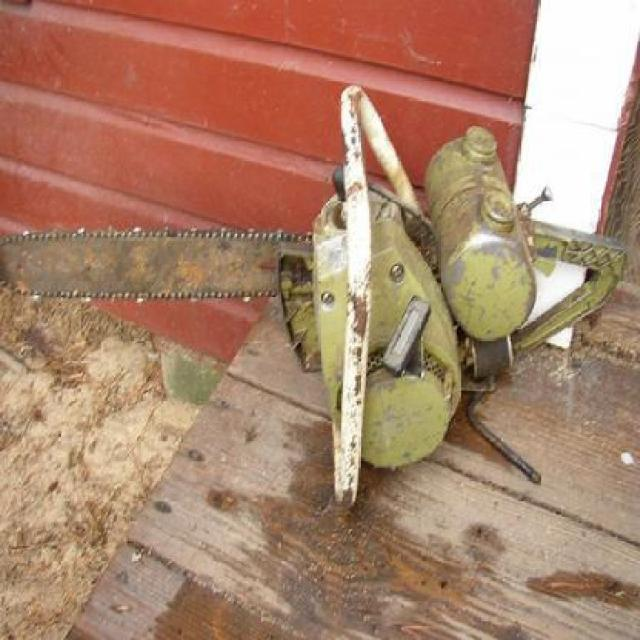Chainsaw: (0, 85, 629, 500)
